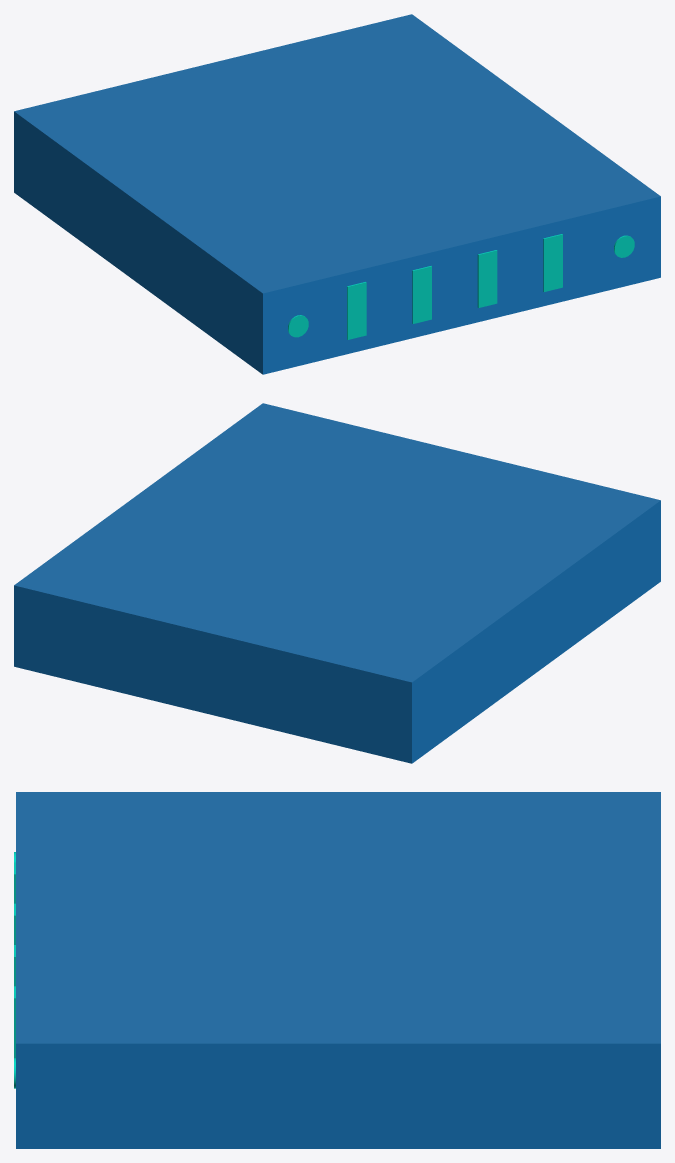
File: safe.gltf
The picture shows the model from 3 angles, top to bottom: view 1: azimuth 30°, elevation 25°; view 2: azimuth 150°, elevation 25°; view 3: azimuth 270°, elevation 25°; orthographic projection. The views are drawn at different scales.
Parts seen in each view (by area): view 1: 对象419, Box279, Box282, Box280, Box283, Box281; view 2: 对象419, Box279; view 3: 对象419, Box279.
Part boxes in pixels (x1,y1,x2,y2): 对象419: [14, 14, 660, 293]; Box279: [14, 111, 660, 374]; Box282: [477, 250, 497, 307]; Box280: [347, 282, 366, 339]; Box283: [543, 234, 562, 291]; Box281: [412, 266, 431, 323]; 对象419: [14, 403, 660, 682]; Box279: [14, 500, 660, 763]; 对象419: [16, 792, 660, 1043]; Box279: [16, 1043, 660, 1148].
Bounding box in the file's own units: 0.5645 × 0.1102 × 0.6134.
